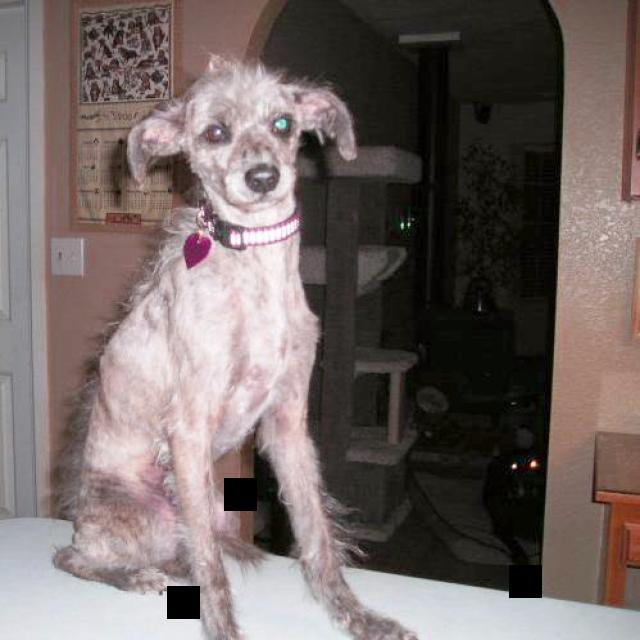adult_dog: (51, 54, 416, 640)
